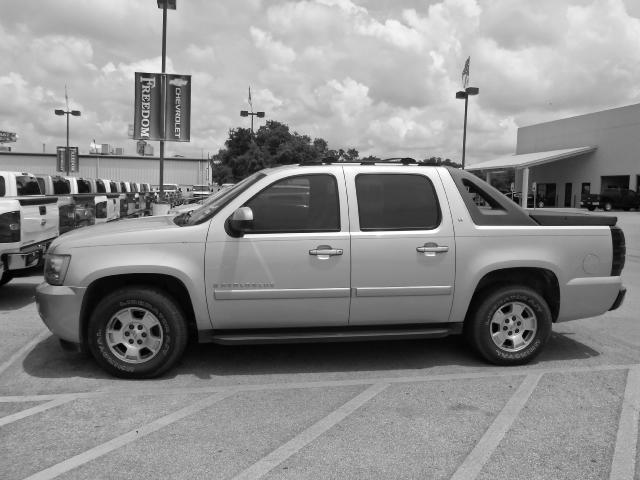car: (37, 164, 626, 380)
